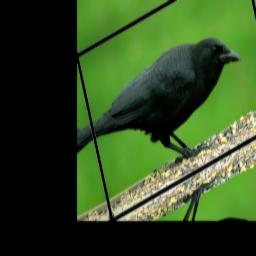Crow: (87, 13, 255, 209)
